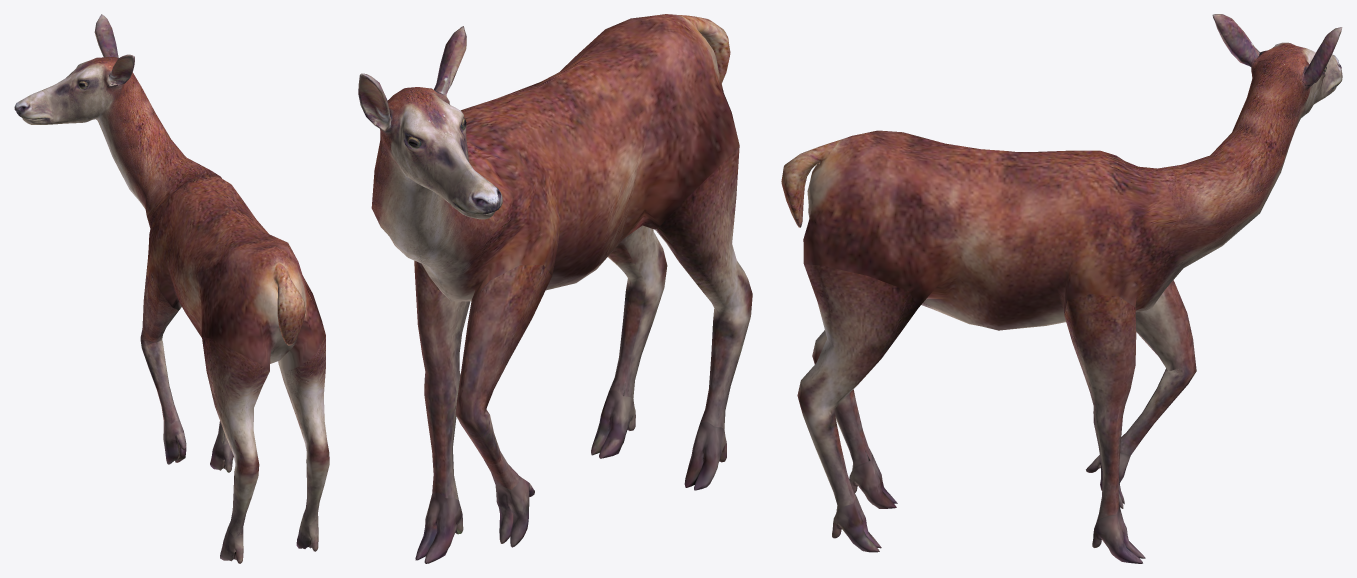
Rendered from deer.obj.
The picture shows the model from 3 angles, left to right: view 1: azimuth 30°, elevation 25°; view 2: azimuth 150°, elevation 25°; view 3: azimuth 270°, elevation 25°; orthographic projection. The views are drawn at different scales.
Parts seen in each view (by area): view 1: deer:Mesh; view 2: deer:Mesh; view 3: deer:Mesh.
Part boxes in pixels (x1,y1,x2,y2): deer:Mesh: (14, 14, 329, 563); deer:Mesh: (358, 14, 752, 563); deer:Mesh: (781, 14, 1342, 563).
Bounding box in the file's own units: 2.09 × 5.54 × 5.51.
Materials: 1 (1 with a texture image).
